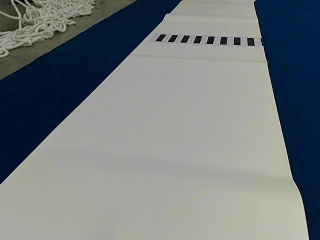crosswalk: (156, 33, 255, 47)
